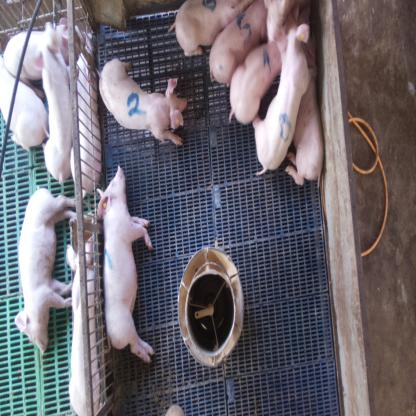1: (262, 47, 271, 72)
2: (126, 92, 147, 120)
5: (237, 13, 252, 47)
N-A: (279, 113, 291, 142)
